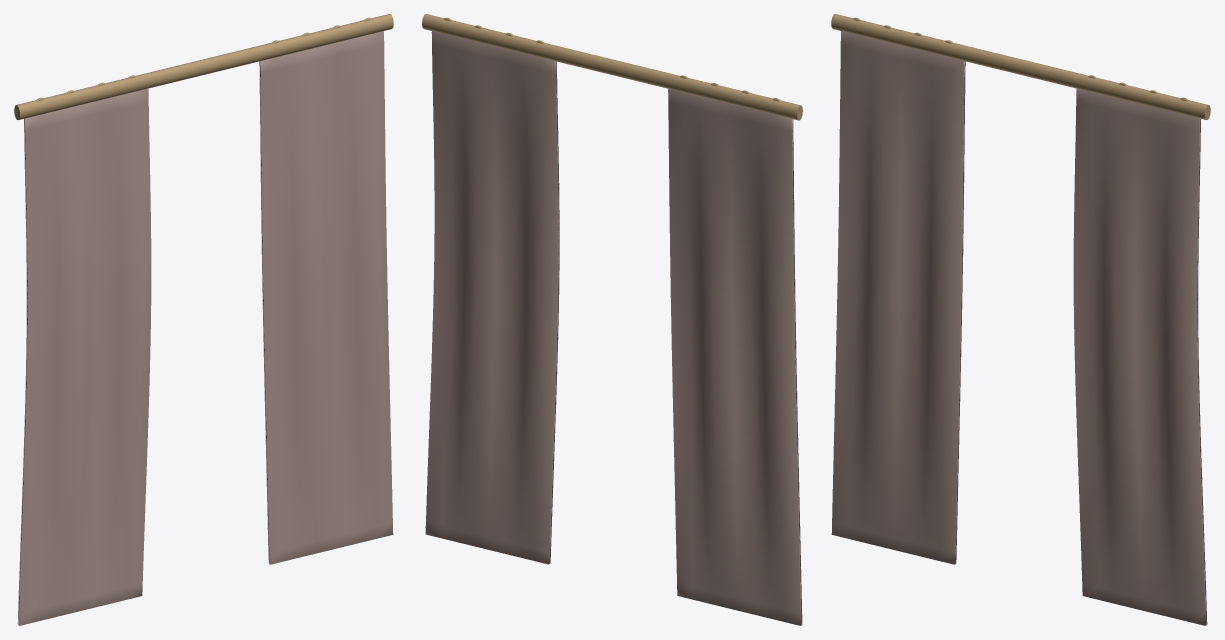
The model's file is curtain.glb.
3 views of the same model, side by side, from view 1: azimuth 30°, elevation 25°; view 2: azimuth 150°, elevation 25°; view 3: azimuth 330°, elevation 25° (orthographic).
Visible parts, largest first — view 1: draped-curtain--1, draped-curtain-1, curtain-rod; view 2: draped-curtain--1, draped-curtain-1, curtain-rod; view 3: draped-curtain-1, draped-curtain--1, curtain-rod.
Part boxes in pixels (x1,y1,x2,y2): draped-curtain--1: (17,88,151,625); draped-curtain-1: (259,31,393,564); curtain-rod: (14,14,393,119); draped-curtain--1: (668,89,802,625); draped-curtain-1: (425,31,559,564); curtain-rod: (422,14,802,120); draped-curtain-1: (1073,88,1207,625); draped-curtain--1: (831,31,965,564); curtain-rod: (831,14,1210,119).
Bounding box in the file's own units: 1.46 × 1.94 × 0.0695.
